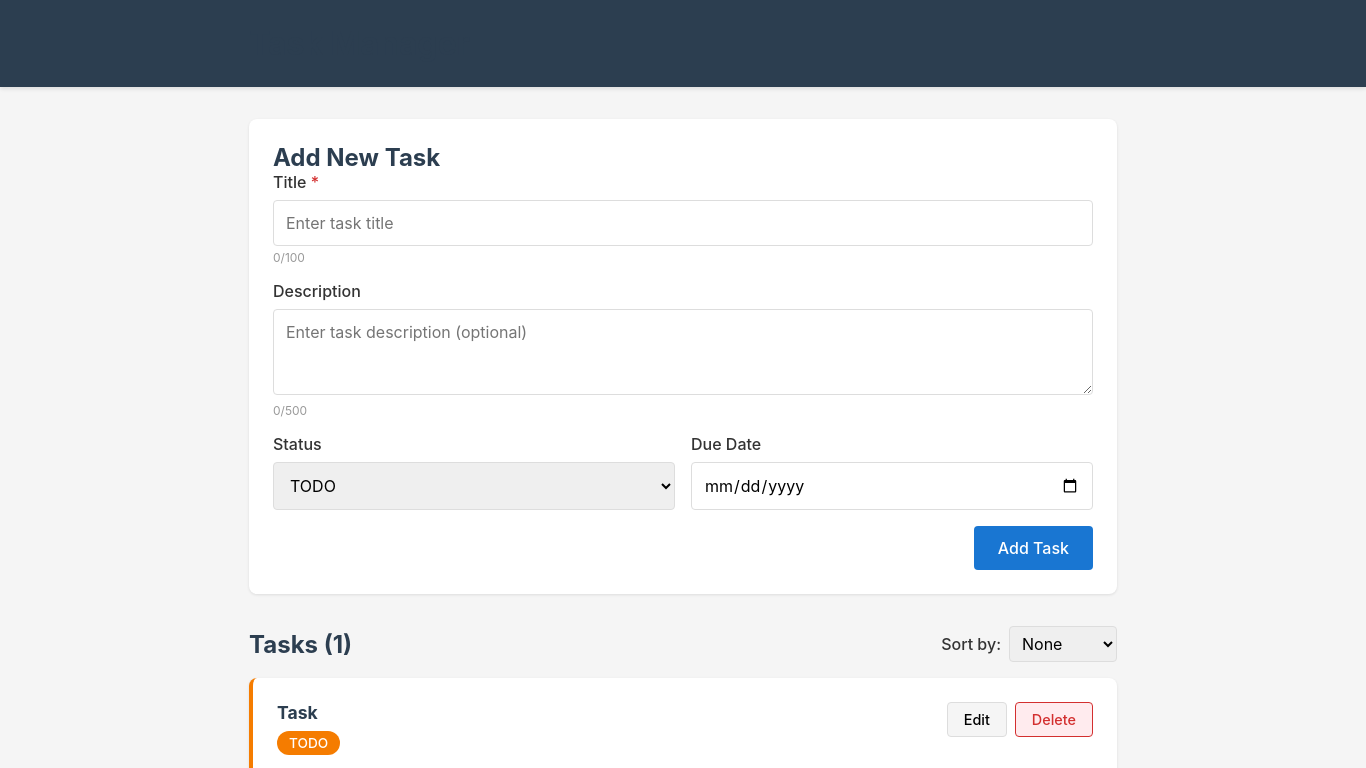
Test: App Component › Edit Task › should switch to edit mode when edit button is clicked
Step 1. Click the button "Edit" → (977,720), box [947, 702, 1007, 737]
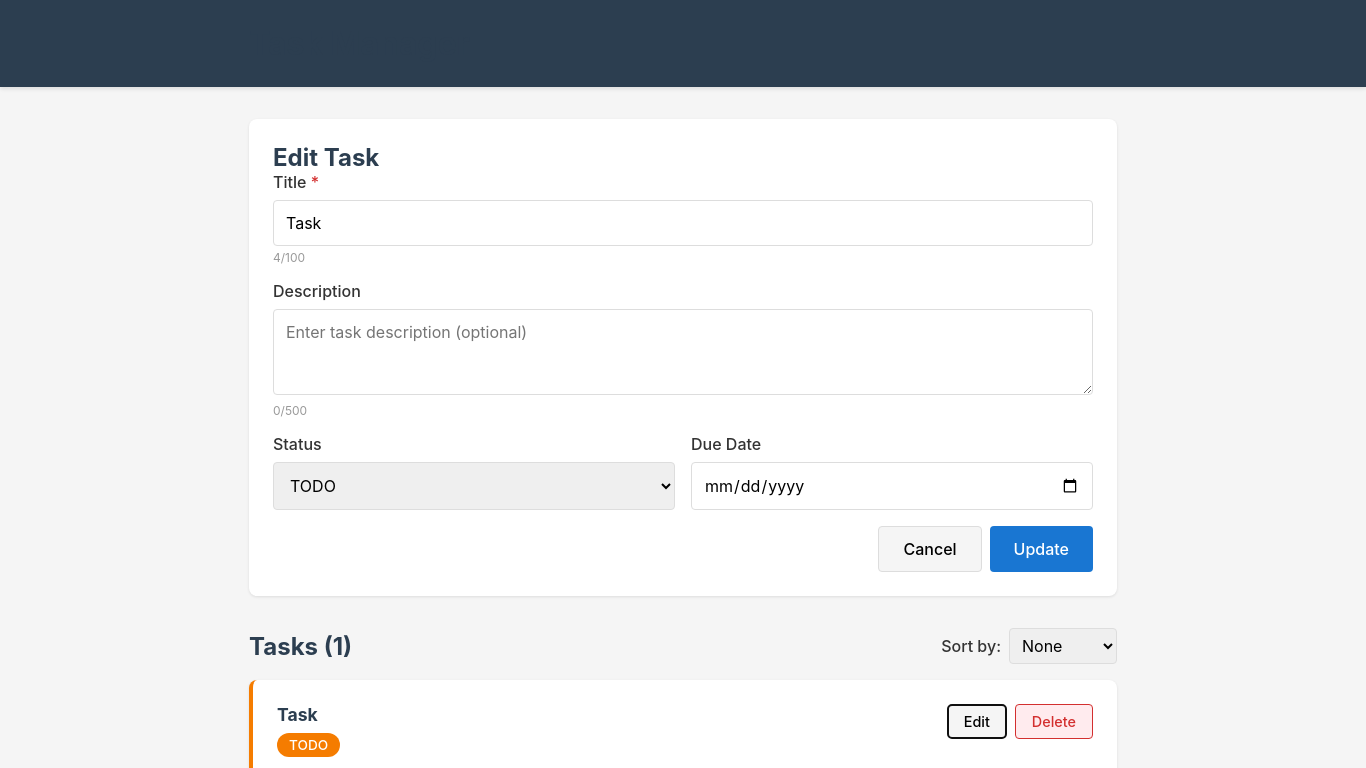
Expected: the heading "Edit Task" is shown, [273, 143, 379, 172]
